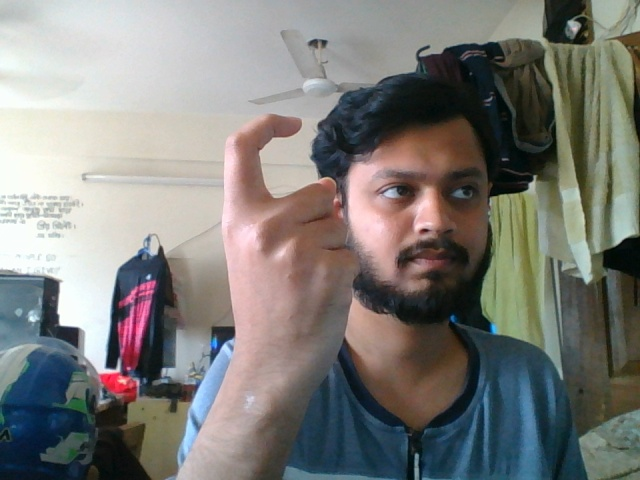e: (214, 106, 367, 450)
